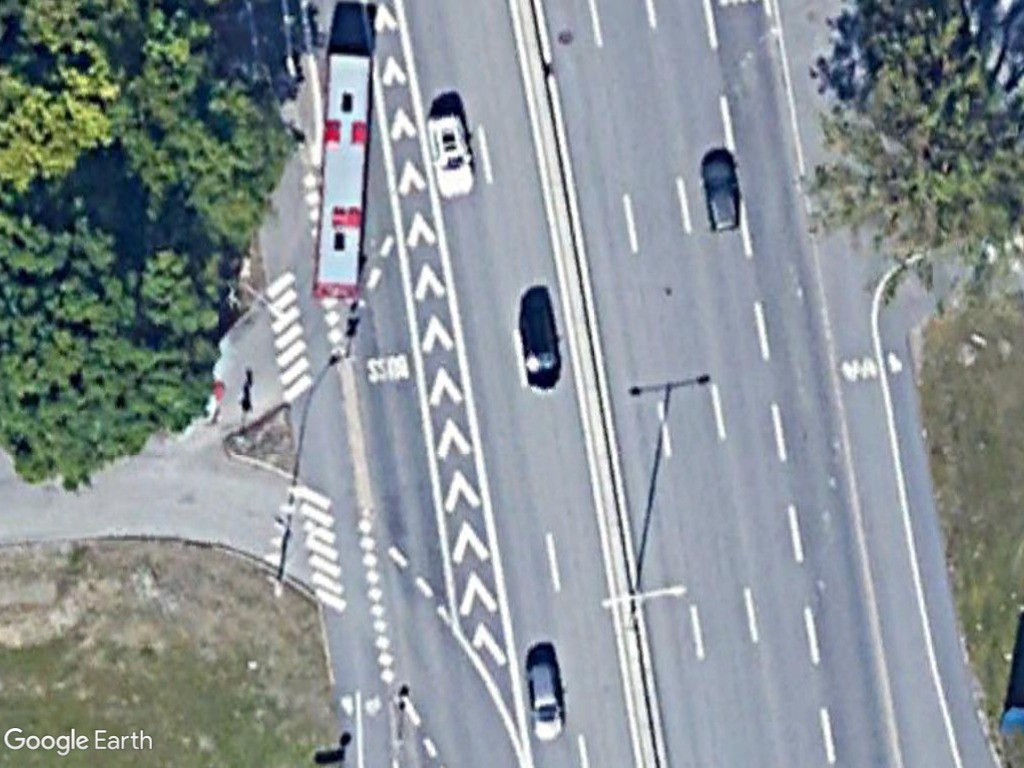bus: (309, 44, 375, 310)
car: (421, 110, 479, 206), (512, 300, 567, 396), (520, 650, 573, 747), (694, 147, 748, 237)
